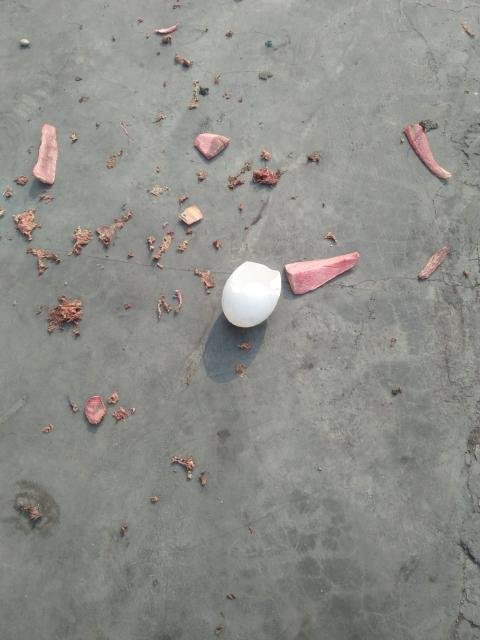Roto: (221, 260, 283, 328)
